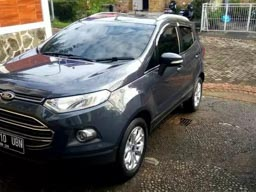plat: (1, 132, 24, 155)
